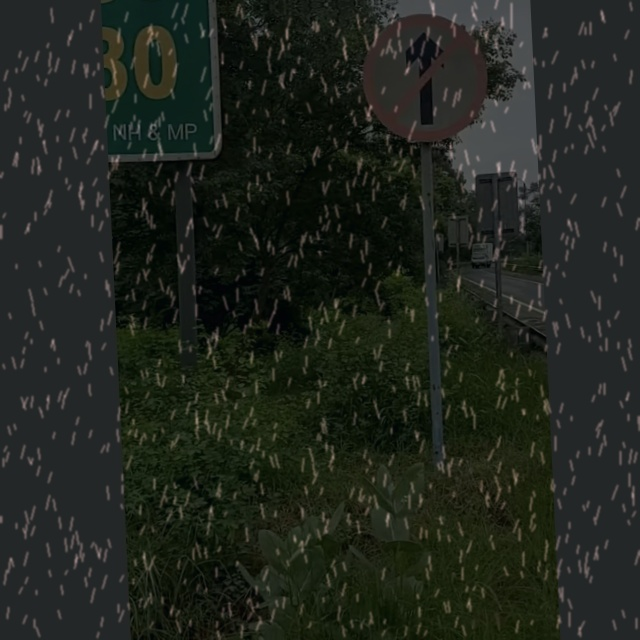No_Entry: (358, 15, 490, 145)
